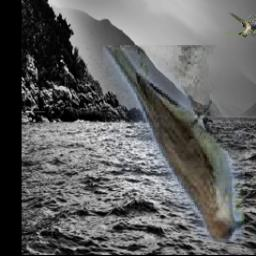Cuckoo: (104, 45, 246, 242)
Swallow: (226, 13, 256, 39)
